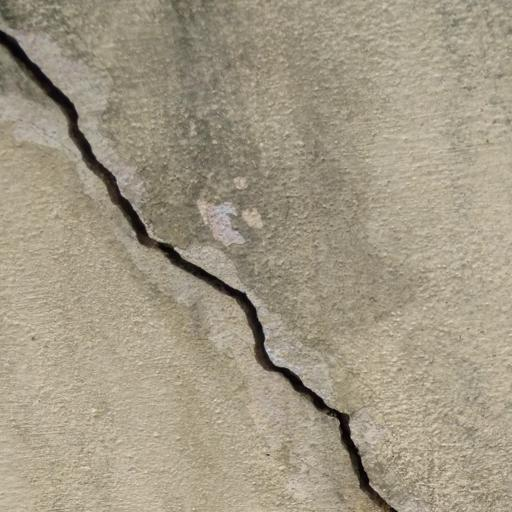major_crack: (0, 18, 403, 512)
